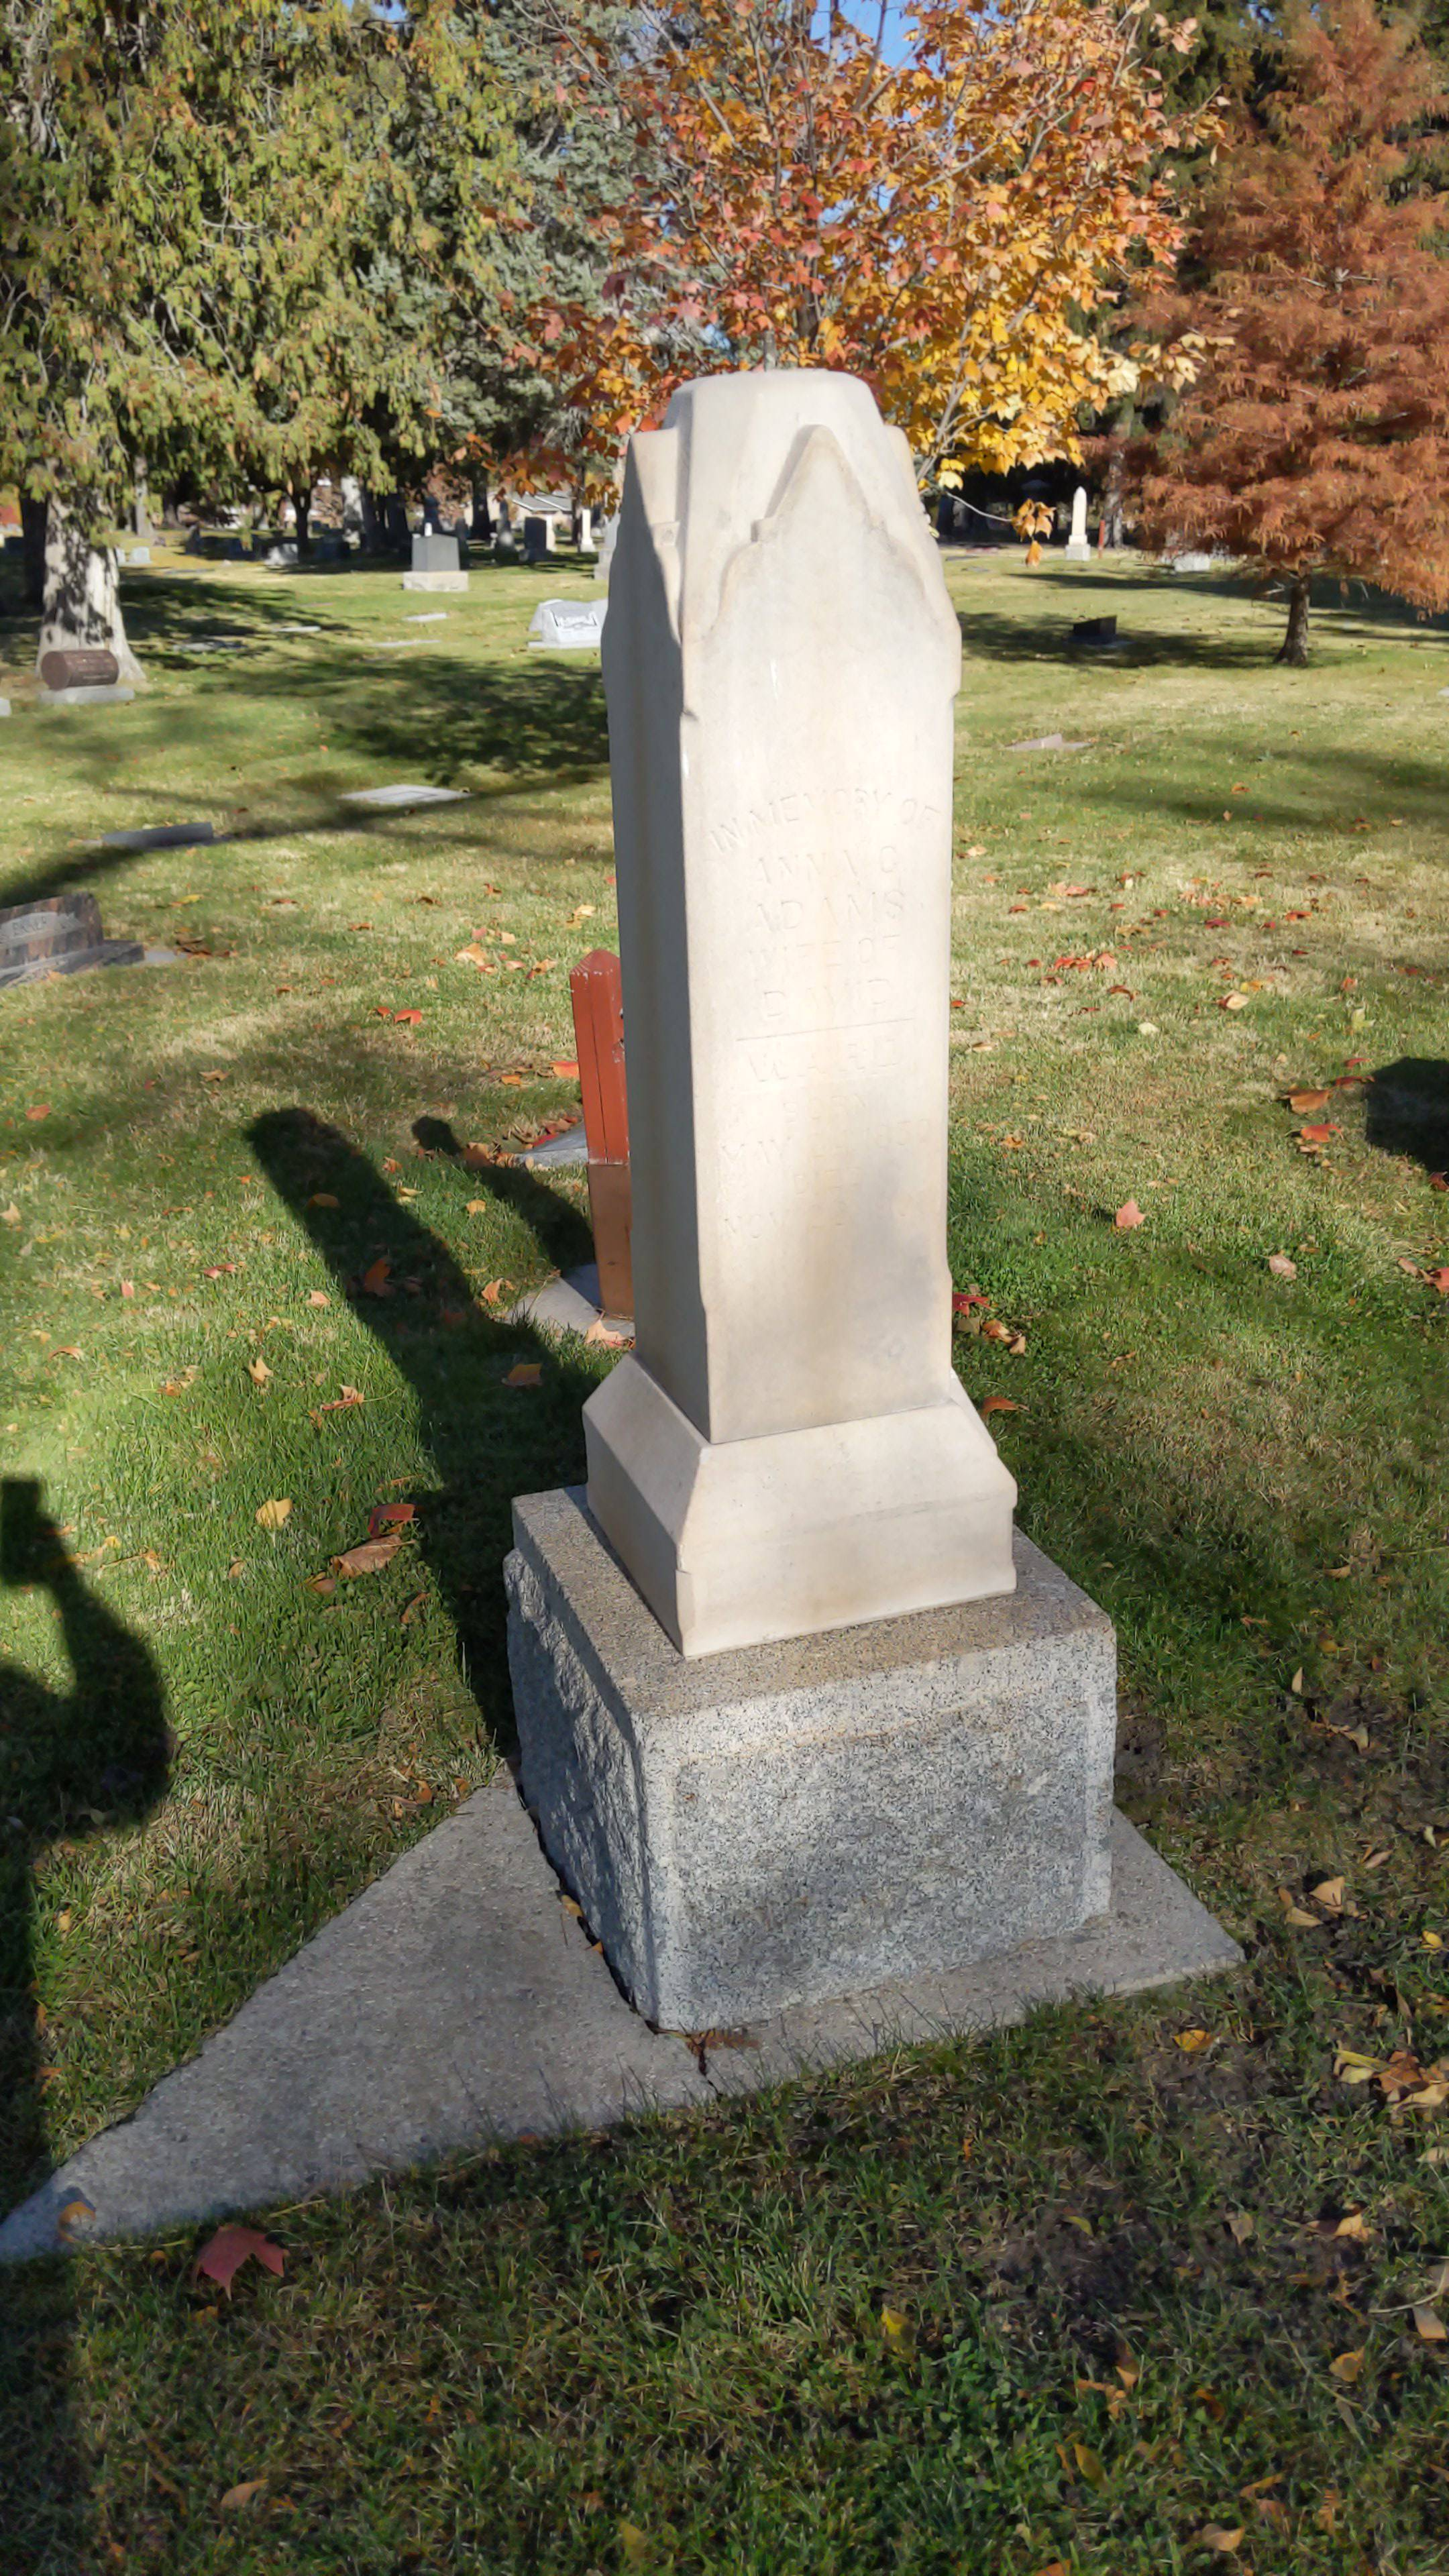obelisk: (557, 361, 1021, 1663)
